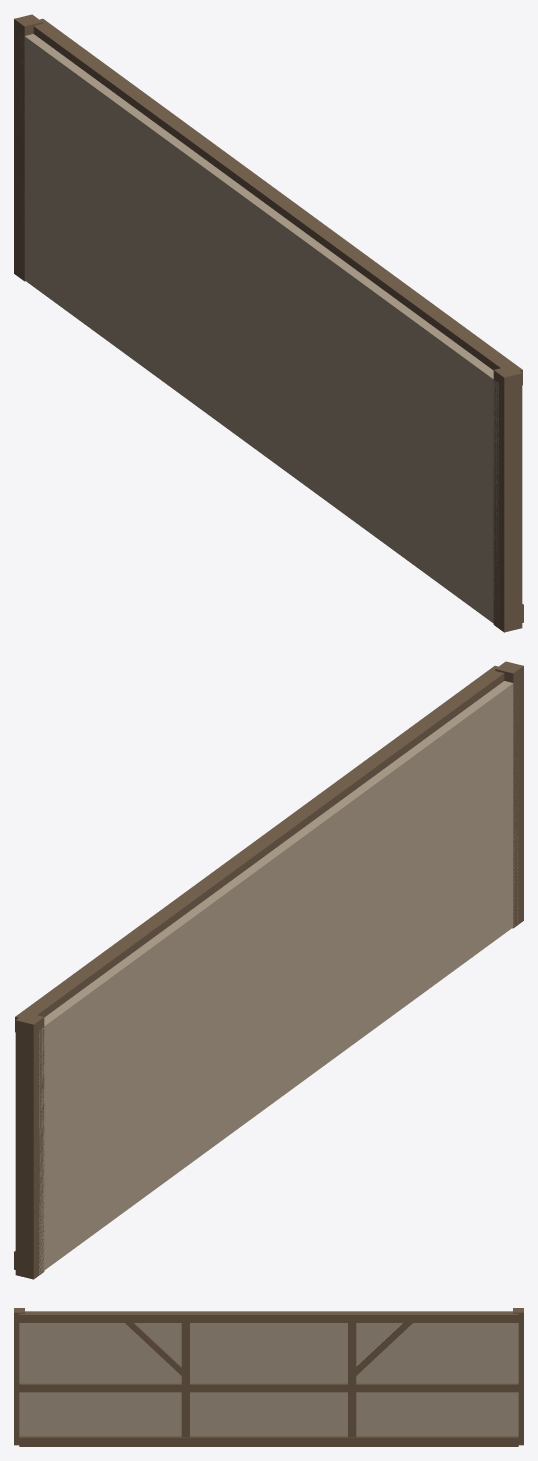
Rendered from mod01_A_art01_wall.glb.
3 views of the same model, one above another, from view 1: azimuth 30°, elevation 25°; view 2: azimuth 150°, elevation 25°; view 3: azimuth 270°, elevation 25° (orthographic). The views are drawn at different scales.
Parts seen in each view (by area): view 1: 08A_SideClay.006, 08A_SideWallPlate.006, 08A_CornerPost.012, 08A_CornerPost.013; view 2: 08A_SideClay.006, 08A_SideWallPlate.006, 08A_CornerPost.013, 08A_CornerPost.012; view 3: 08A_SideClay.006, 08A_SideWallPlate.006, ART01_SideSill, ART01_MidRail, ART01_IntermediatePost_1, ART01_IntermediatePost_2, 08A_CornerPost.012, 08A_CornerPost.013, ART01_KneeBrace_1, ART01_KneeBrace_2.
Boxes of the visible parts, bbox=[...] form: 08A_SideClay.006: bbox=[20, 34, 498, 625]; 08A_SideWallPlate.006: bbox=[33, 18, 522, 385]; 08A_CornerPost.012: bbox=[493, 365, 522, 632]; 08A_CornerPost.013: bbox=[14, 14, 42, 281]; 08A_SideClay.006: bbox=[39, 681, 518, 1274]; 08A_SideWallPlate.006: bbox=[15, 665, 504, 1032]; 08A_CornerPost.013: bbox=[15, 1012, 44, 1279]; 08A_CornerPost.012: bbox=[495, 661, 523, 928]; 08A_SideClay.006: bbox=[19, 1323, 518, 1435]; 08A_SideWallPlate.006: bbox=[19, 1311, 518, 1322]; ART01_SideSill: bbox=[19, 1436, 518, 1446]; ART01_MidRail: bbox=[19, 1383, 518, 1392]; ART01_IntermediatePost_1: bbox=[181, 1323, 189, 1437]; ART01_IntermediatePost_2: bbox=[348, 1323, 356, 1437]; 08A_CornerPost.012: bbox=[14, 1308, 24, 1445]; 08A_CornerPost.013: bbox=[513, 1308, 523, 1445]; ART01_KneeBrace_1: bbox=[125, 1323, 181, 1375]; ART01_KneeBrace_2: bbox=[356, 1323, 412, 1375].
Size of the model in its own units: 0.22 by 2.14 by 7.46.
